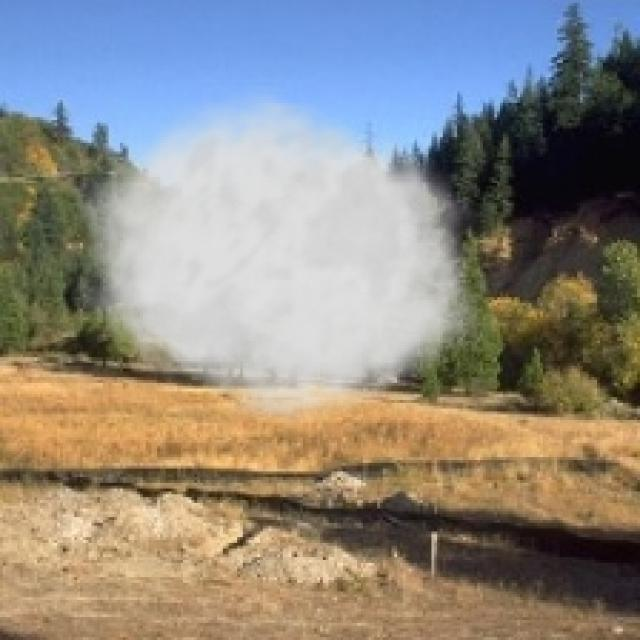smoke: (72, 83, 494, 431)
